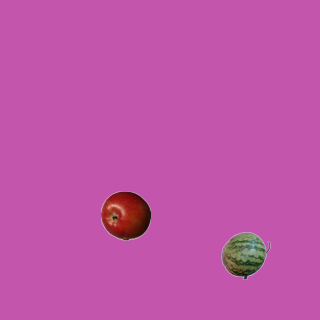Apple Braeburn: (100, 190, 150, 240)
Watermelon: (220, 230, 270, 280)
